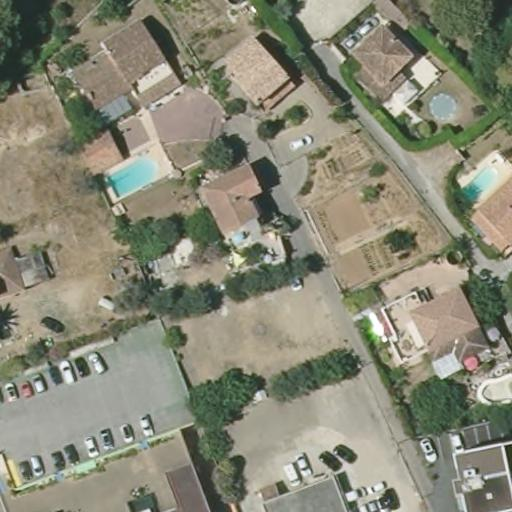pool: (99, 154, 163, 198), (455, 161, 501, 206)
